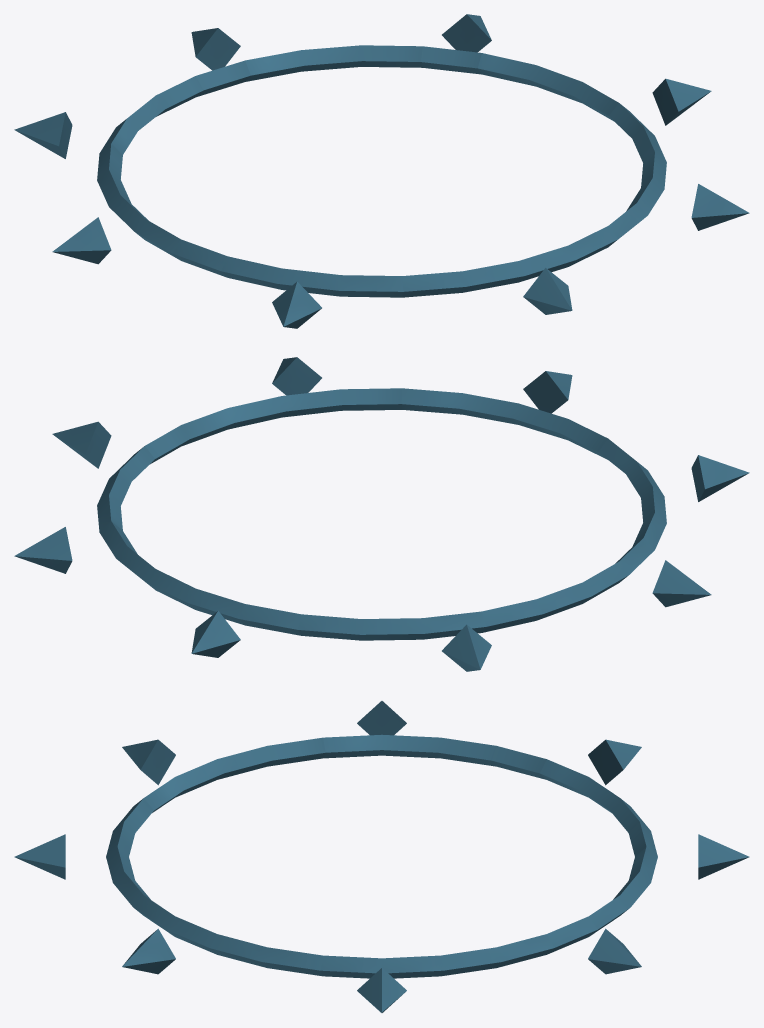
The model's file is SM_Campfire_WaterTarget.fbx.
3 renders of one model, top to bottom at view 1: azimuth 30°, elevation 25°; view 2: azimuth 150°, elevation 25°; view 3: azimuth 270°, elevation 25°, orthographic. The views are drawn at different scales.
Visible parts, largest first — view 1: SM_Campfire_WaterTarget; view 2: SM_Campfire_WaterTarget; view 3: SM_Campfire_WaterTarget.
Boxes of the visible parts, <box> form: SM_Campfire_WaterTarget: <box>14,14,749,328</box>; SM_Campfire_WaterTarget: <box>14,357,749,671</box>; SM_Campfire_WaterTarget: <box>14,701,749,1012</box>.
Bounding box in the file's own units: 6.4 × 0.44 × 6.4.
1 material, 1 textured.
